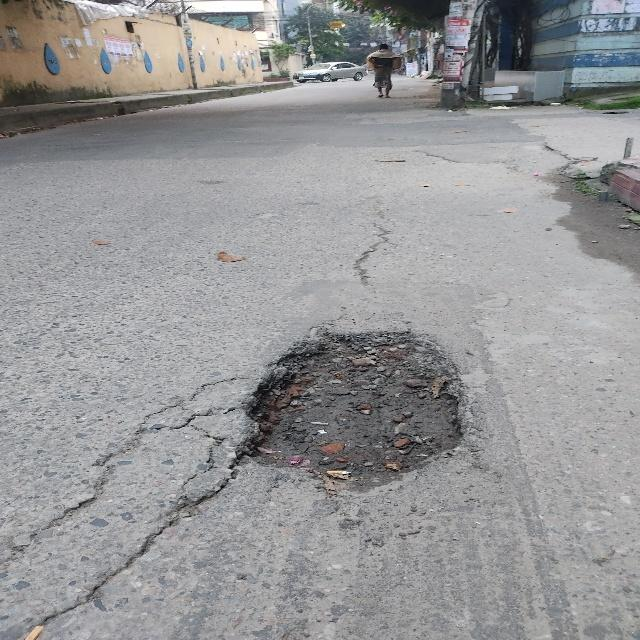Crack: (5, 382, 231, 626), (337, 190, 407, 301)
Pothole: (253, 334, 470, 478)
